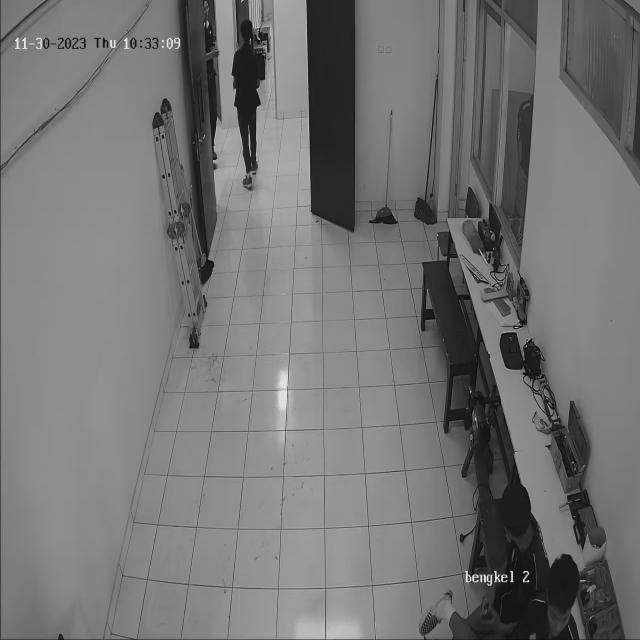person: (222, 15, 276, 205)
